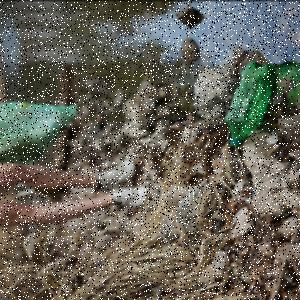Plastic-bottle: (225, 61, 278, 147)
